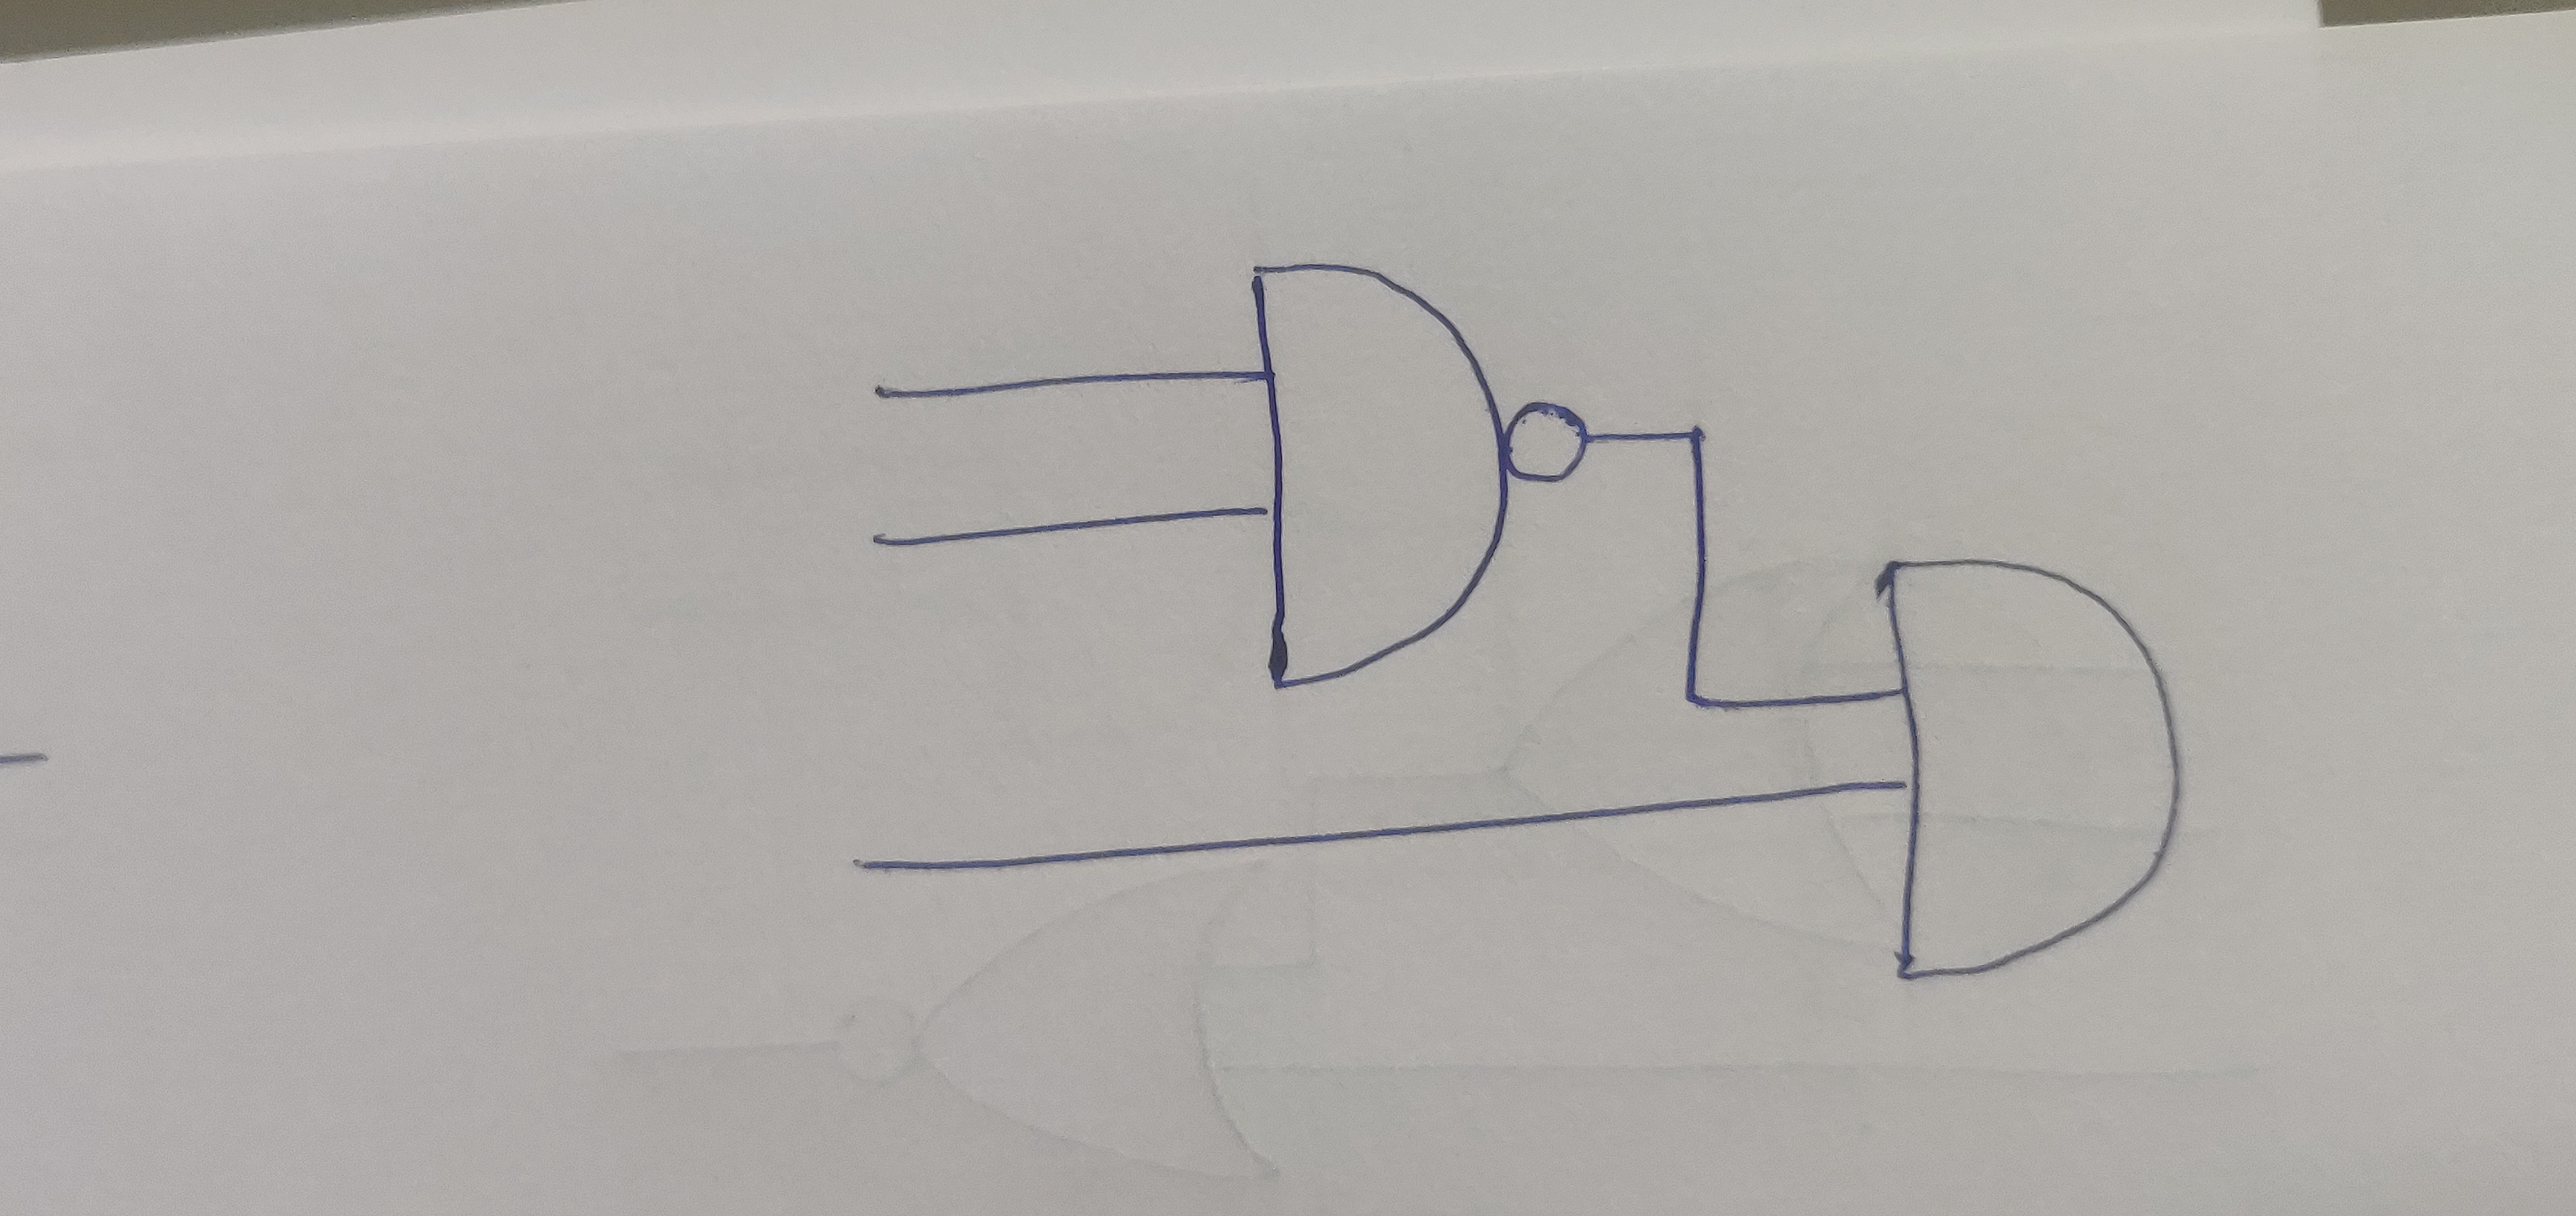and: (1879, 552, 2188, 986), (1245, 253, 1515, 690)
not: (1498, 398, 1600, 493)
